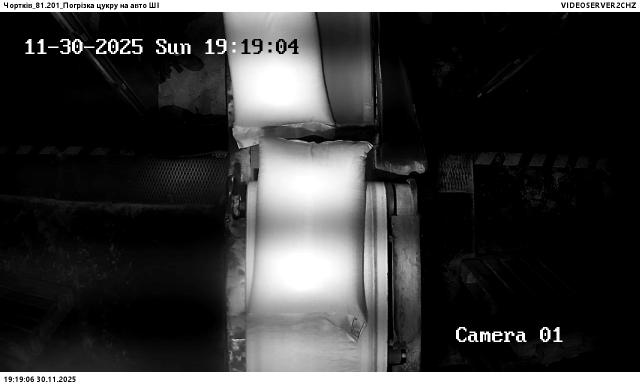bag: (248, 139, 372, 344), (223, 13, 337, 148)
